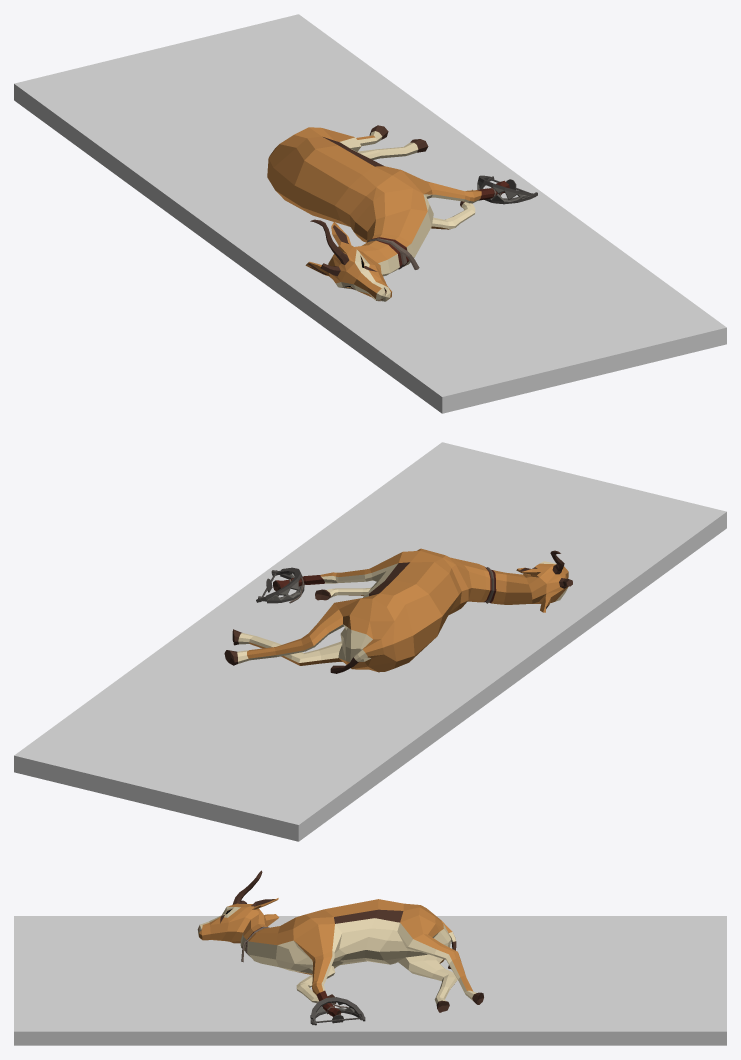
File: traped_gazelle.fbx
The picture shows the model from 3 angles, top to bottom: view 1: azimuth 30°, elevation 25°; view 2: azimuth 150°, elevation 25°; view 3: azimuth 270°, elevation 25°; orthographic projection. The views are drawn at different scales.
Parts seen in each view (by area): view 1: Cube.001, Cube, Cylinder; view 2: Cube.001, Cube, Cylinder; view 3: Cube.001, Cube, Cylinder.
Boxes of the visible parts, x1,y1,x2,y2 form: Cube.001: (14,14,726,413); Cube: (267,125,509,301); Cylinder: (477,175,537,204); Cube.001: (14,442,726,841); Cube: (224,548,572,673); Cylinder: (256,567,304,603); Cube.001: (14,916,726,1045); Cube: (197,870,483,1016); Cylinder: (310,997,365,1025).
Bounding box in the file's own units: 1854 × 510 × 4829.
